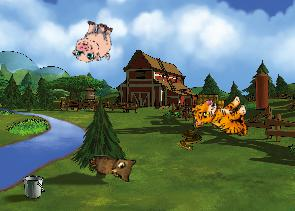owl: (88, 154, 136, 184)
pig: (70, 17, 117, 67)
tiger: (189, 89, 253, 147)
